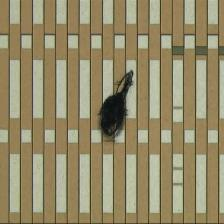PARTICLE: (96, 68, 139, 143)
